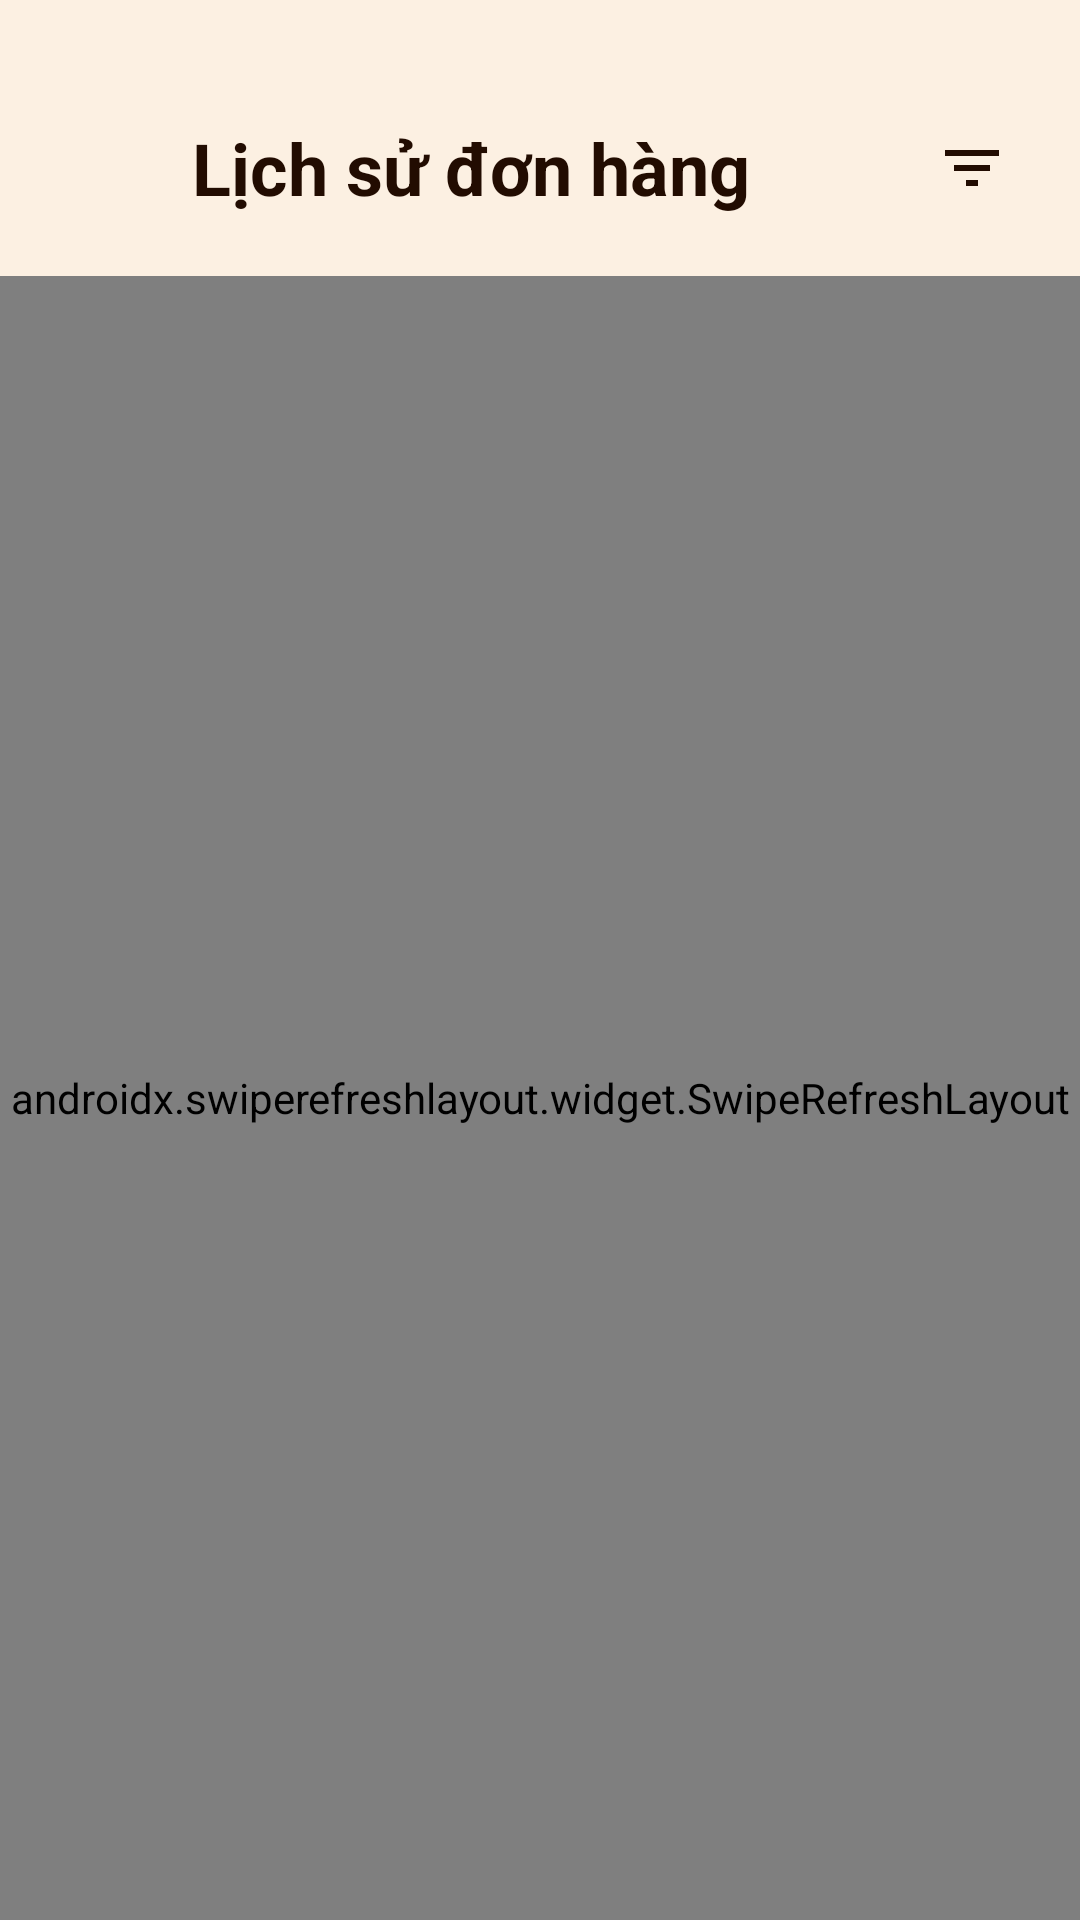

Icon bounding boxes for this 1080w x 1920h phone screenshot, format (x1, y1, x2, y2):
Filter orders: (945, 150, 999, 186)
